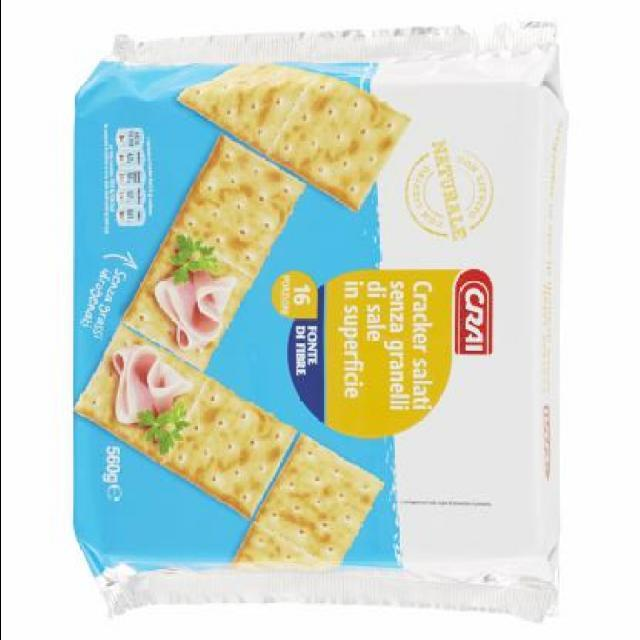Cracker: (71, 11, 575, 632)
